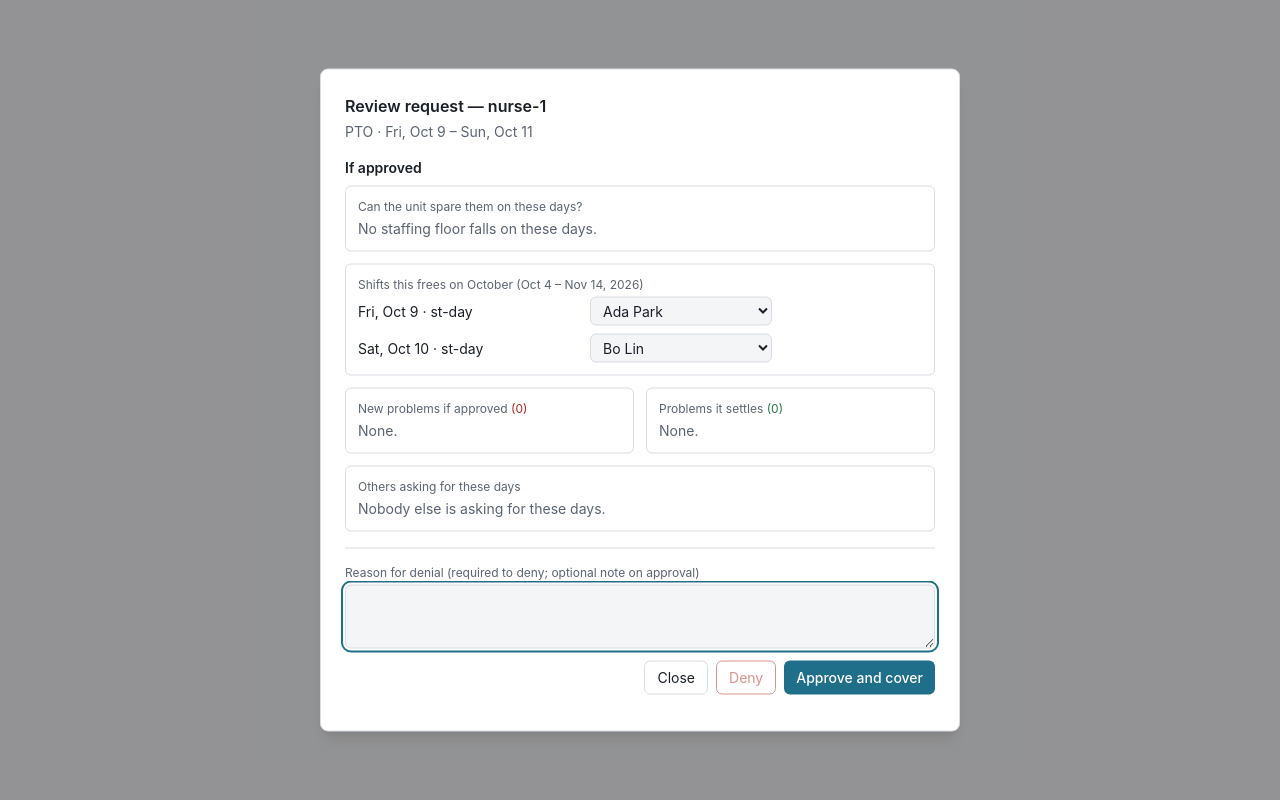
approving a time-off request from the review dialog › shows the message when main refuses the approval
Click the button "Approve and cover": [860, 678] box [784,660,935,694]
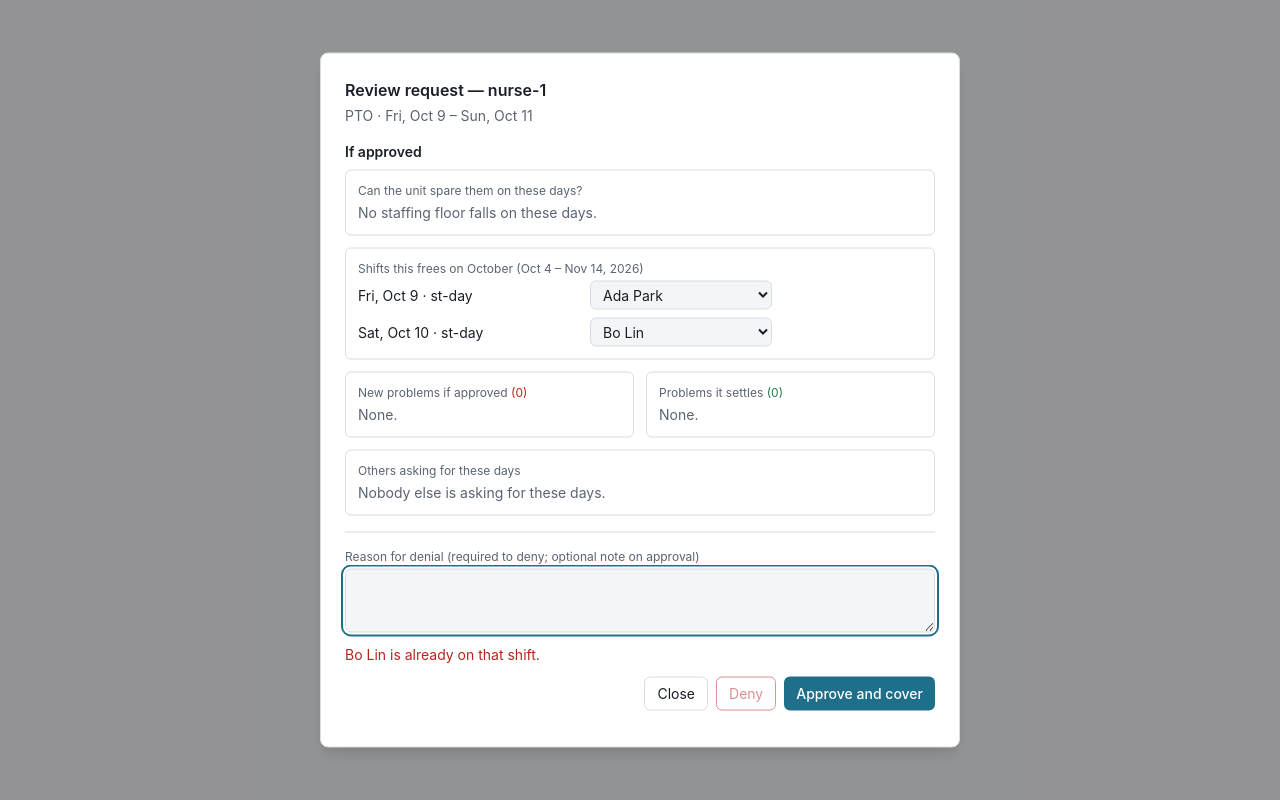
Expected: the message reads "Bo Lin is already on that shift.", [345,646,540,662]
